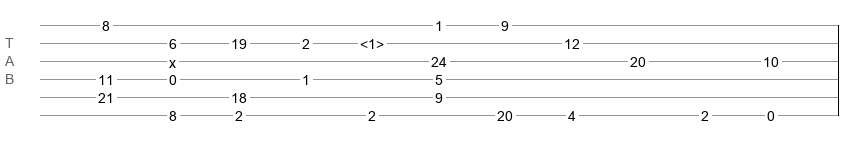0: (169, 72, 177, 82), (767, 108, 775, 118)
1: (302, 72, 310, 82), (435, 18, 443, 28)
10: (763, 54, 779, 64)
11: (98, 72, 114, 82)
12: (564, 36, 580, 46)
18: (231, 90, 247, 100)
19: (231, 36, 247, 46)
2: (235, 108, 243, 118), (302, 36, 310, 46), (368, 108, 376, 118), (701, 108, 709, 118)
20: (497, 108, 513, 118), (630, 54, 646, 64)
21: (98, 90, 114, 100)
24: (431, 54, 447, 64)
4: (568, 108, 576, 118)
5: (435, 72, 443, 82)
6: (169, 36, 177, 46)
8: (102, 18, 110, 28), (169, 108, 177, 118)
9: (435, 90, 443, 100), (501, 18, 509, 28)
harmonic: (360, 36, 384, 46)
x: (169, 55, 176, 63)
